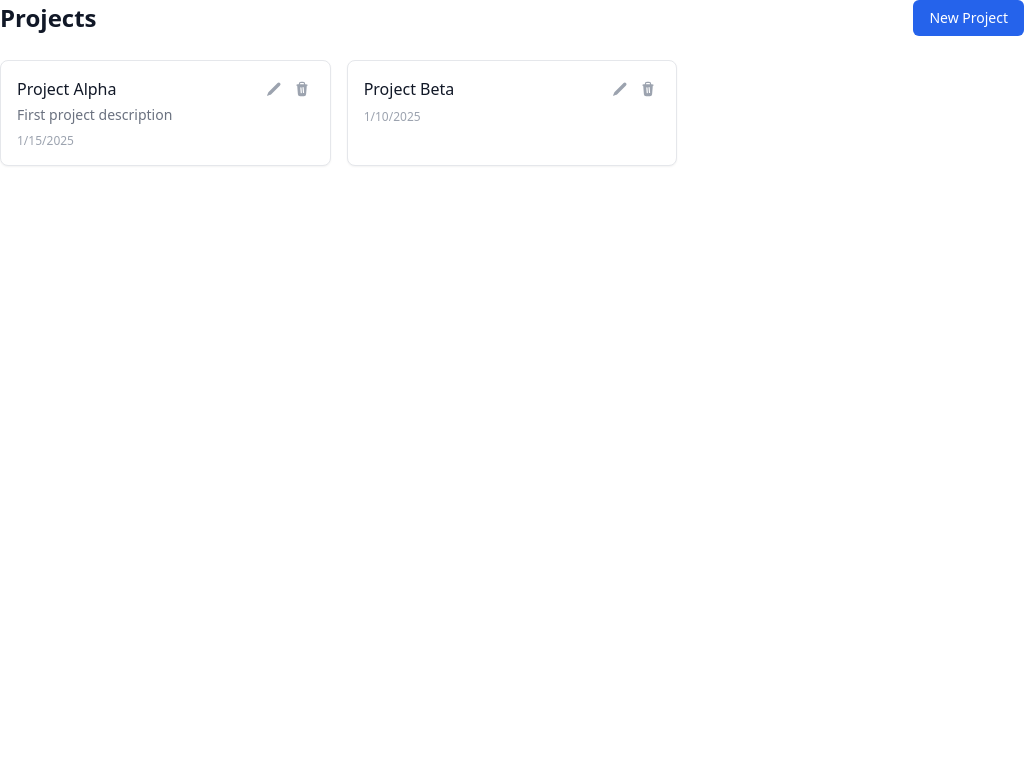
Scenario: DashboardPage › closes confirm dialog when cancel is clicked
Click the button named "Delete project" in the row of "Project Alpha" at (302, 89), box top-left (290, 77), bottom-right (314, 101)
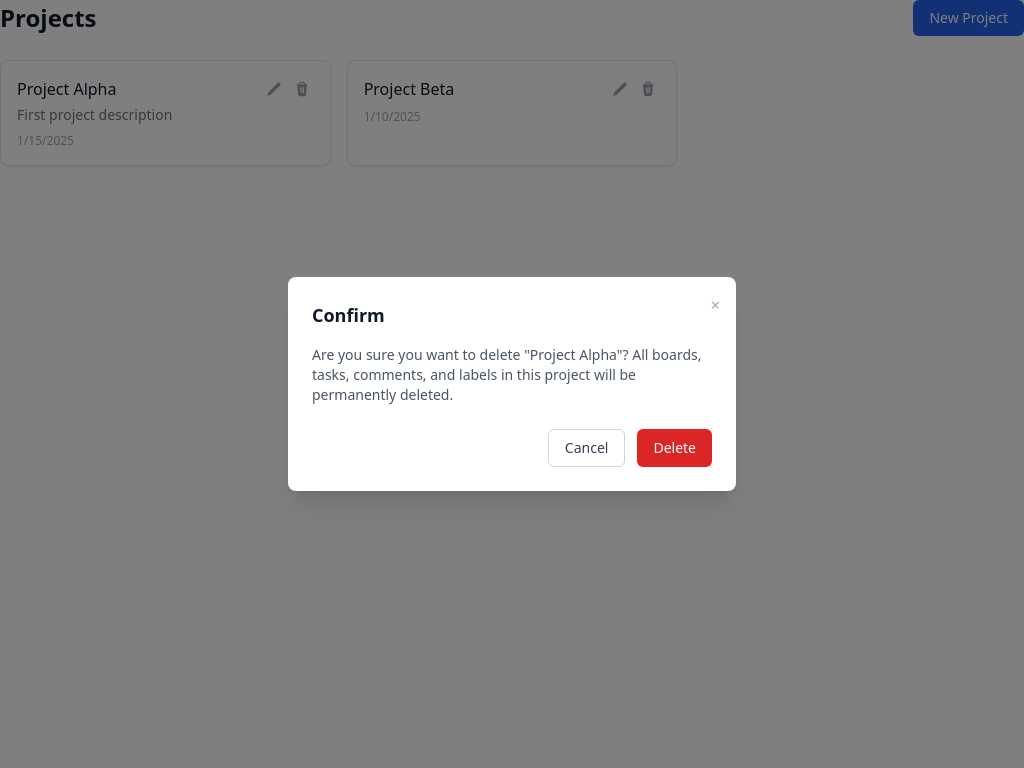
Expected: the text "Are you sure you want to delete \"Project Alpha\"" is shown, top-left (312, 345), bottom-right (702, 404)
Click the button "Cancel" at (587, 448), box top-left (548, 429), bottom-right (625, 467)
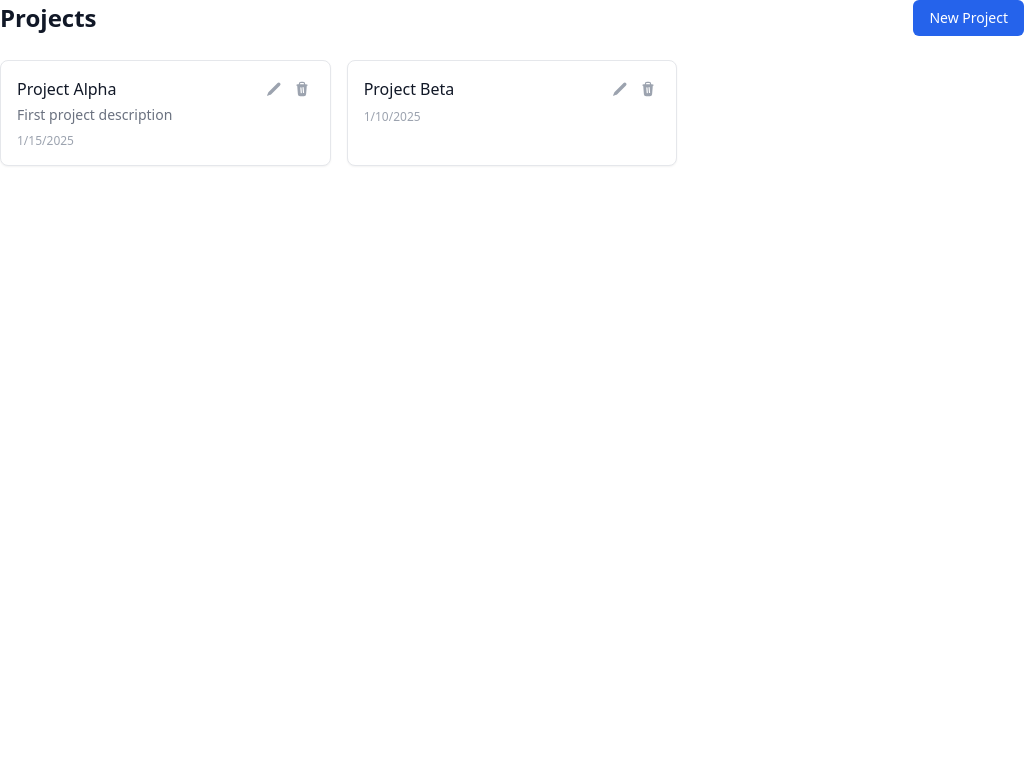
Expected: the text "Are you sure you want to delete \"Project Alpha\"" is gone
